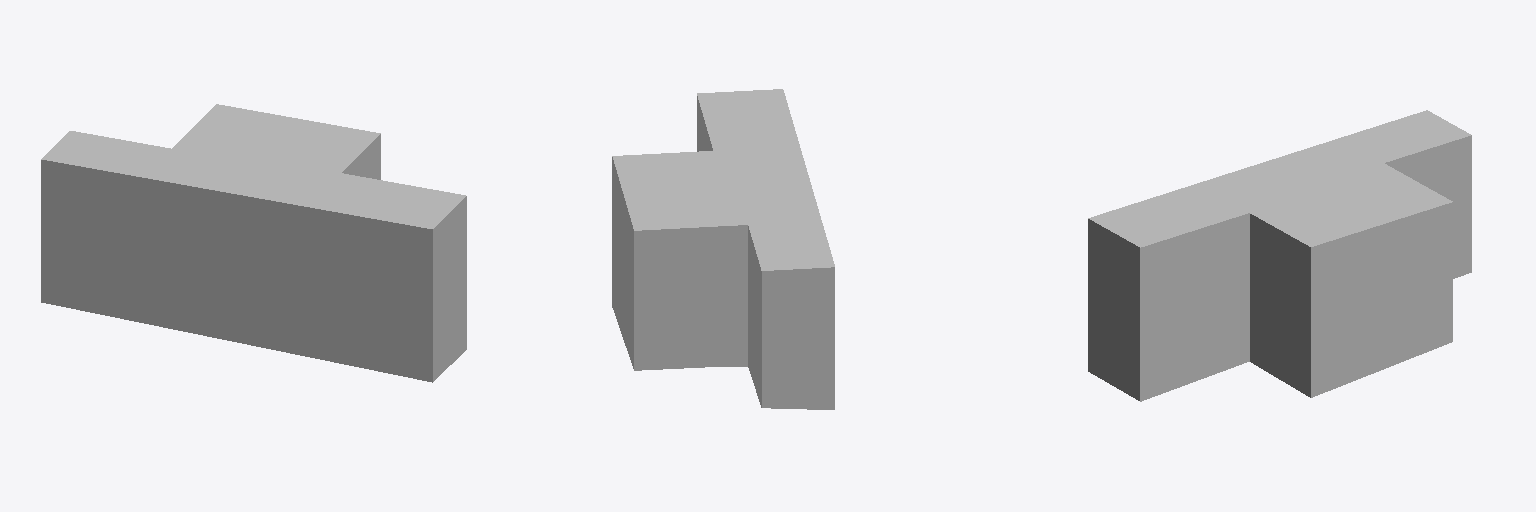
Rendered from Biblio.obj.
3 views of the same model, side by side, from view 1: azimuth 30°, elevation 25°; view 2: azimuth 150°, elevation 25°; view 3: azimuth 270°, elevation 25° (orthographic).
Visible parts, largest first — view 1: Areas:building.011_Areas:building.013; view 2: Areas:building.011_Areas:building.013; view 3: Areas:building.011_Areas:building.013.
Boxes of the visible parts, x1,y1,x2,y2 form: Areas:building.011_Areas:building.013: [41, 104, 466, 382]; Areas:building.011_Areas:building.013: [612, 89, 834, 409]; Areas:building.011_Areas:building.013: [1088, 110, 1471, 401].
Size of the model in its own units: 82.01 by 42.8 by 96.68.